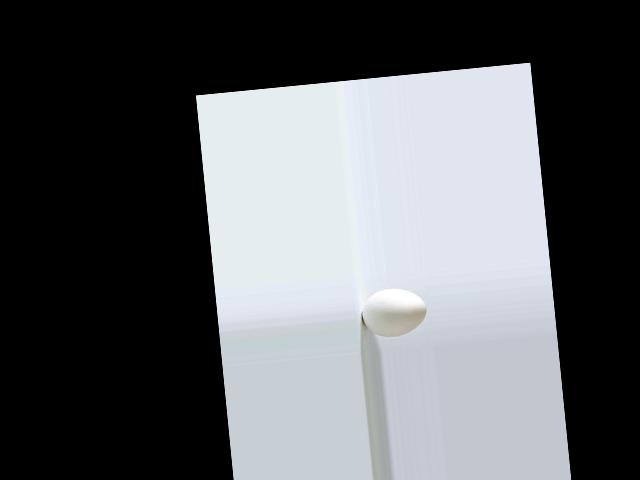egg: (359, 285, 428, 338)
